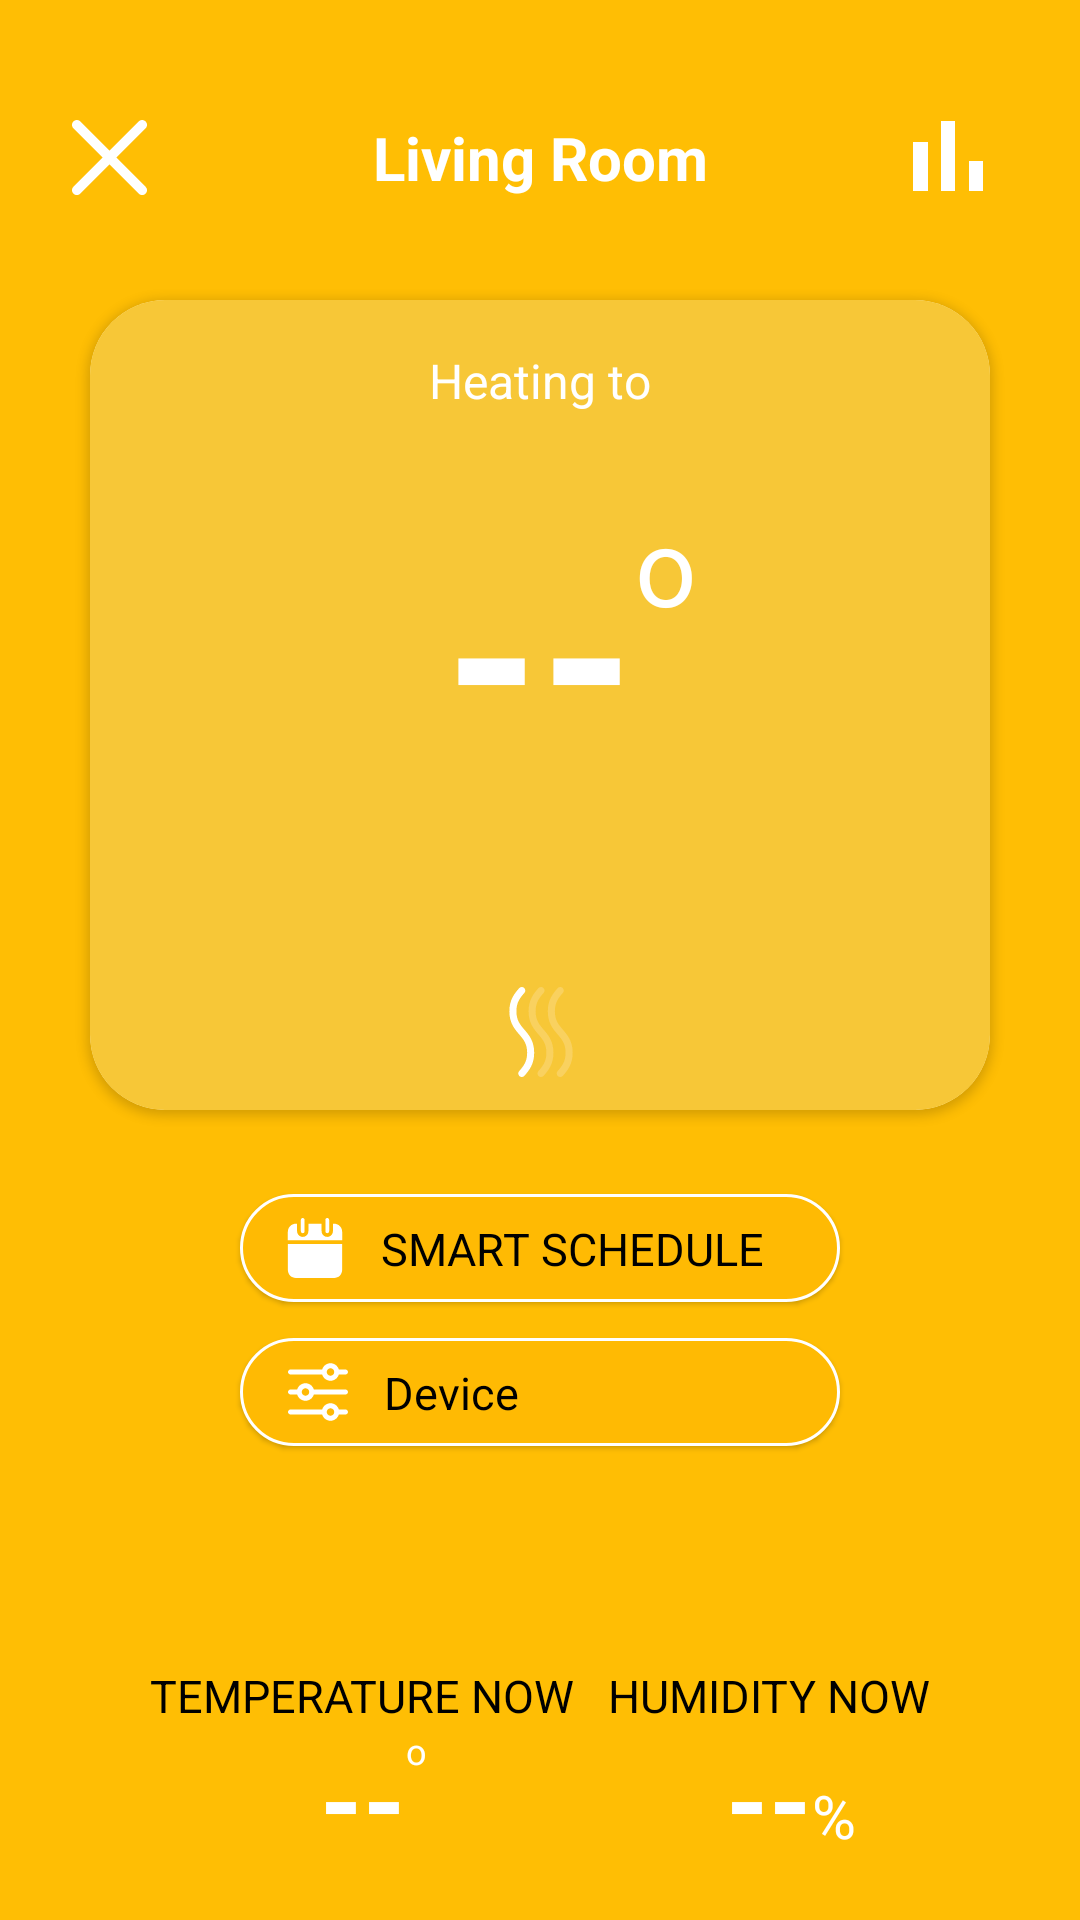

Screen size 1080w x 1920h. Icon name, then its box in pixels as (x1, y1, x2, y2):
bar chart: (913, 121, 983, 191)
calendar: (287, 1218, 343, 1278)
close: (72, 120, 147, 195)
settings: (288, 1363, 348, 1421)
